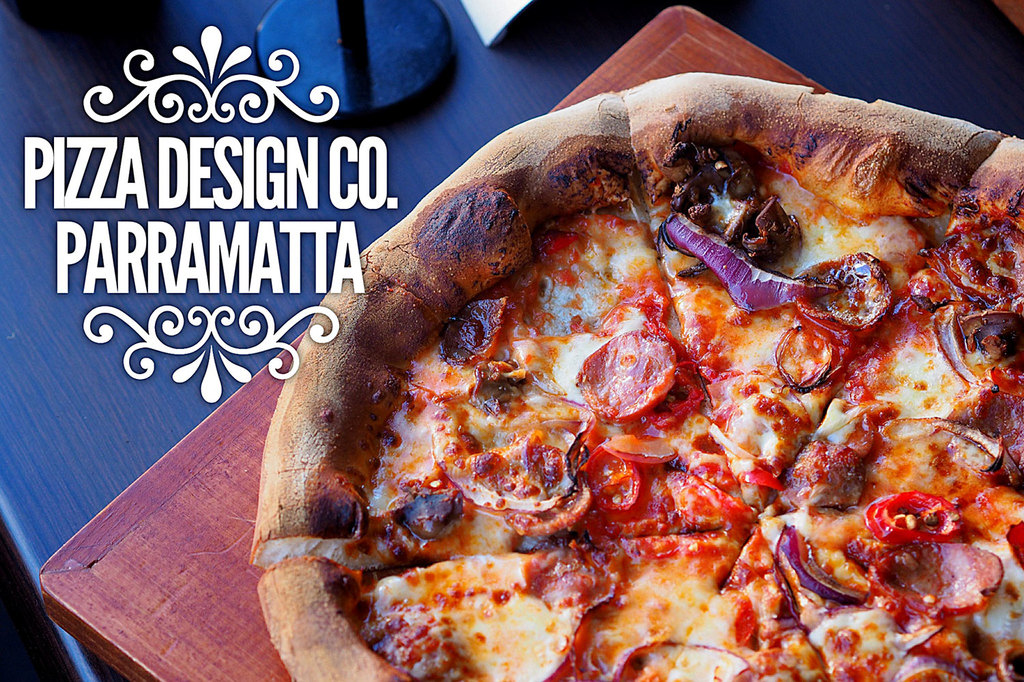Pizza: (163, 47, 1024, 682)
